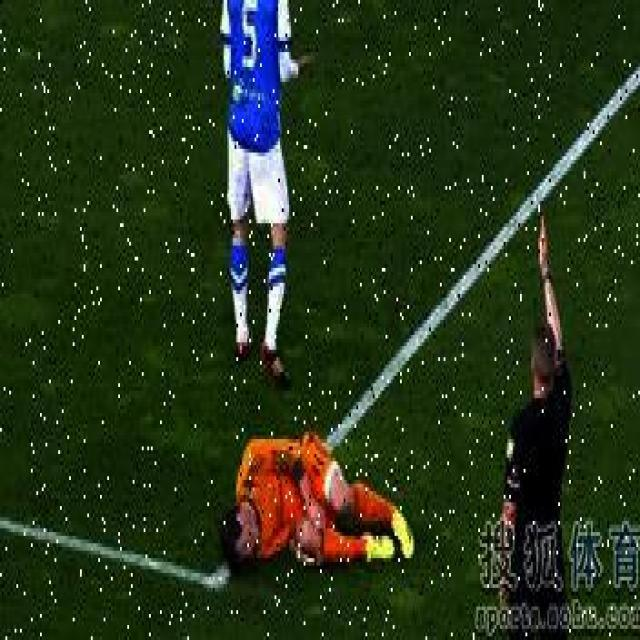fall: (216, 424, 416, 580)
